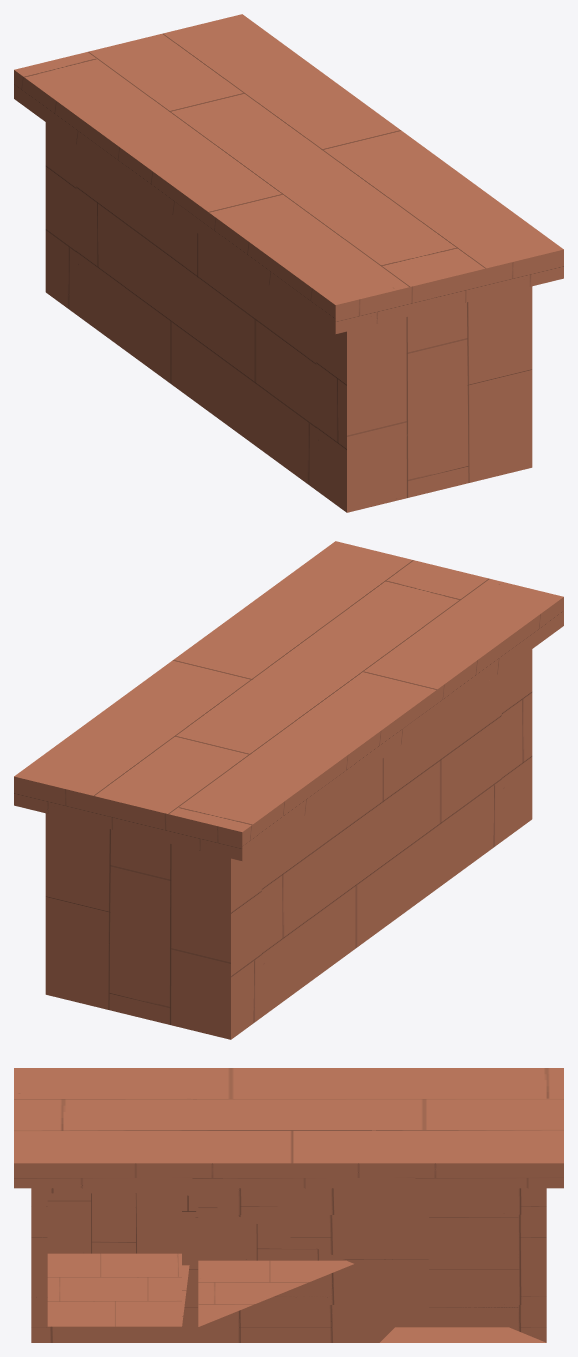
Rendered from mostrador_sin_triangular.obj.
The picture shows the model from 3 angles, top to bottom: view 1: azimuth 30°, elevation 25°; view 2: azimuth 150°, elevation 25°; view 3: azimuth 270°, elevation 25°; orthographic projection. The views are drawn at different scales.
Parts seen in each view (by area): view 1: barril:pCube2, barril:pCube1; view 2: barril:pCube2, barril:pCube1; view 3: barril:pCube1, barril:pCube2.
Part boxes in pixels (bbox=[...]): barril:pCube2: bbox=[14, 14, 563, 334]; barril:pCube1: bbox=[45, 122, 532, 512]; barril:pCube2: bbox=[14, 541, 563, 861]; barril:pCube1: bbox=[45, 649, 532, 1039]; barril:pCube1: bbox=[31, 1188, 546, 1342]; barril:pCube2: bbox=[14, 1068, 563, 1188].
Size of the model in its own units: 1.23 by 1.14 by 3.
1 material, 1 textured.
